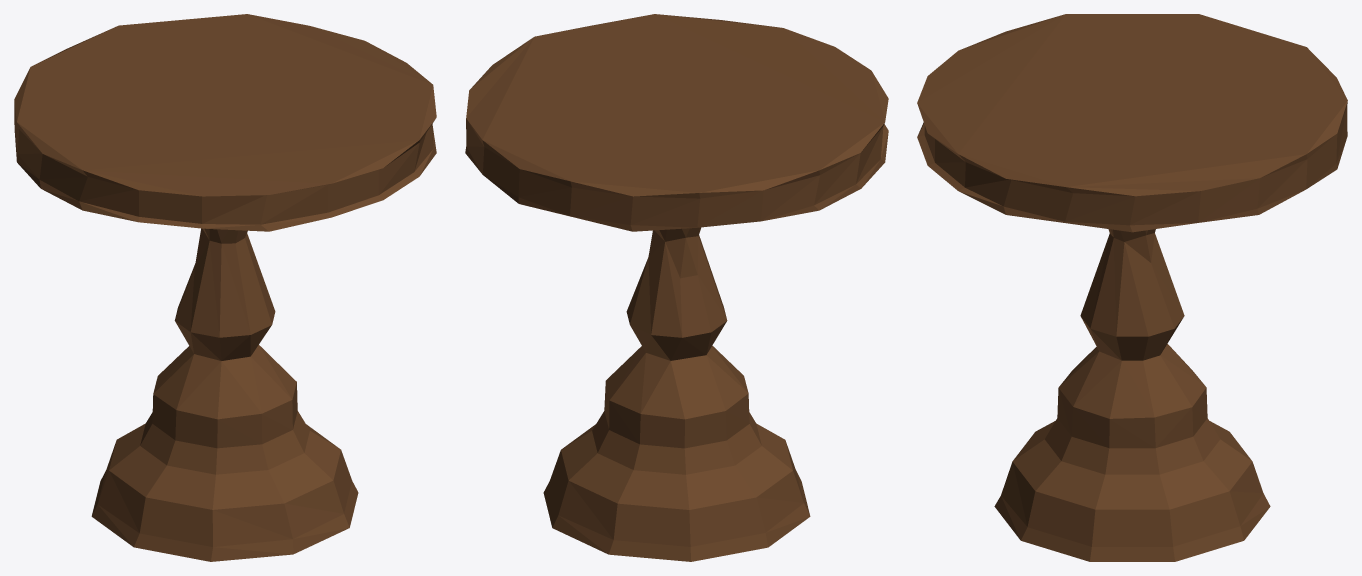
The model's file is studio_side_table.fbx.
3 renders of one model, left to right at view 1: azimuth 30°, elevation 25°; view 2: azimuth 150°, elevation 25°; view 3: azimuth 270°, elevation 25°, orthographic.
Visible parts, largest first — view 1: studio_side_table_LOD0; view 2: studio_side_table_LOD0; view 3: studio_side_table_LOD0.
Part boxes in pixels (x1,y1,x2,y2): studio_side_table_LOD0: [14, 14, 436, 561]; studio_side_table_LOD0: [465, 14, 888, 561]; studio_side_table_LOD0: [917, 14, 1347, 561].
Size of what is drawn, in the model's own units: 0.5 by 0.5199 by 0.5.
1 material, 1 textured.
